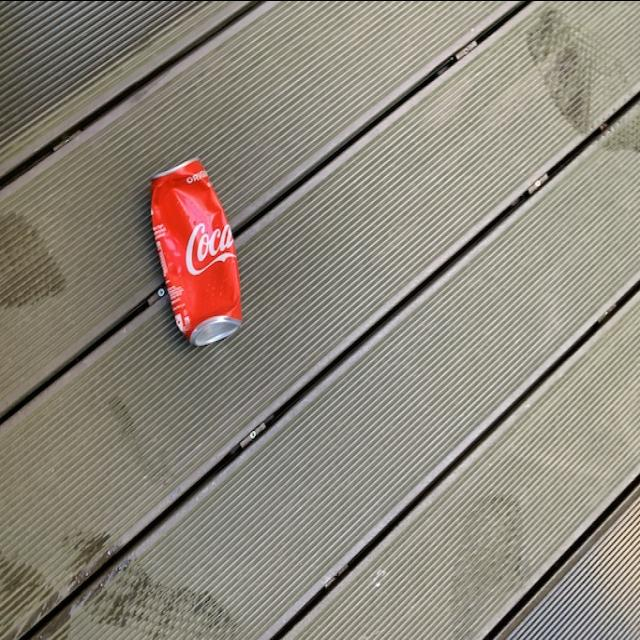litter: (149, 154, 245, 350)
